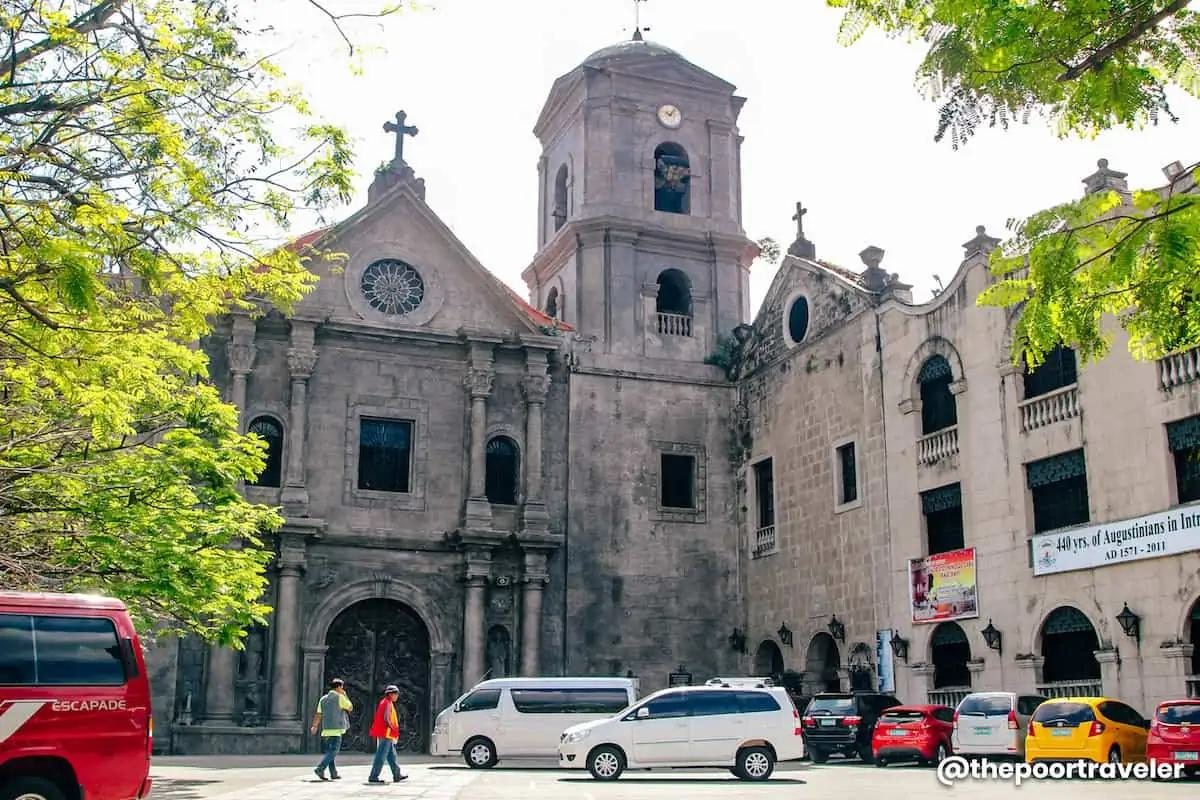Environmental Damage: (704, 328, 745, 386), (725, 413, 757, 469), (749, 232, 780, 275)
San Agustin Church: (174, 1, 753, 733)
